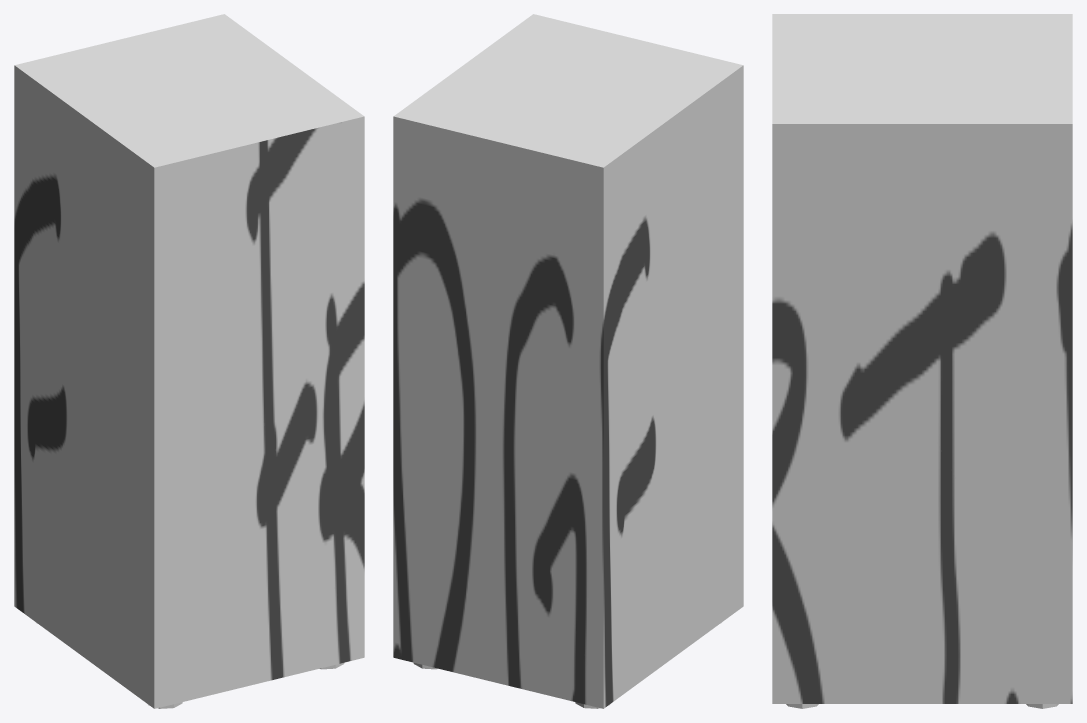
The model's file is Fridge.fbx.
3 renders of one model, left to right at view 1: azimuth 30°, elevation 25°; view 2: azimuth 150°, elevation 25°; view 3: azimuth 270°, elevation 25°, orthographic. The views are drawn at different scales.
Parts seen in each view (by area): view 1: Cube; view 2: Cube; view 3: Cube.
Part boxes in pixels (x1=…): Cube: x1=14, y1=14, x2=364, y2=708; Cube: x1=393, y1=14, x2=743, y2=708; Cube: x1=772, y1=14, x2=1072, y2=703.
Size of the model in its own units: 150 by 325 by 130.
